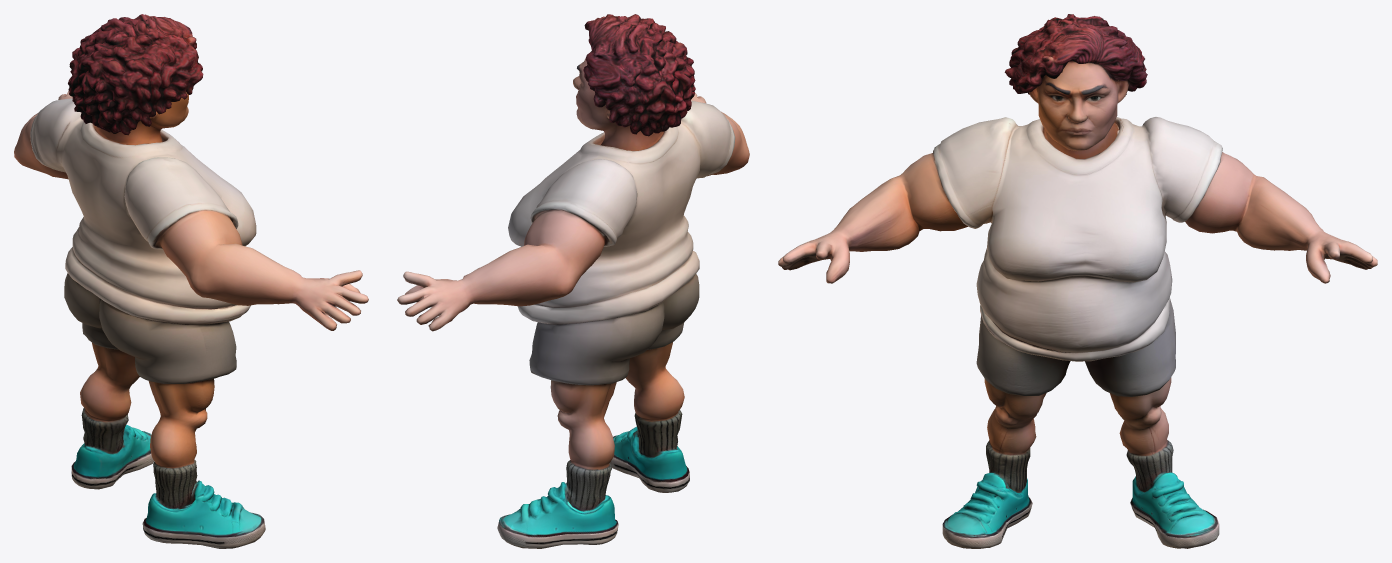
3 views of the same model, side by side, from view 1: azimuth 30°, elevation 25°; view 2: azimuth 150°, elevation 25°; view 3: azimuth 270°, elevation 25° (orthographic).
Parts seen in each view (by area): view 1: tripo_node_a29f3f92; view 2: tripo_node_a29f3f92; view 3: tripo_node_a29f3f92.
Boxes of the visible parts, <box> form: tripo_node_a29f3f92: <box>14,14,368,548</box>; tripo_node_a29f3f92: <box>397,14,749,548</box>; tripo_node_a29f3f92: <box>778,14,1377,548</box>.
Size of the model in its own units: 32.29 by 91.78 by 100.
1 material, 1 textured.
